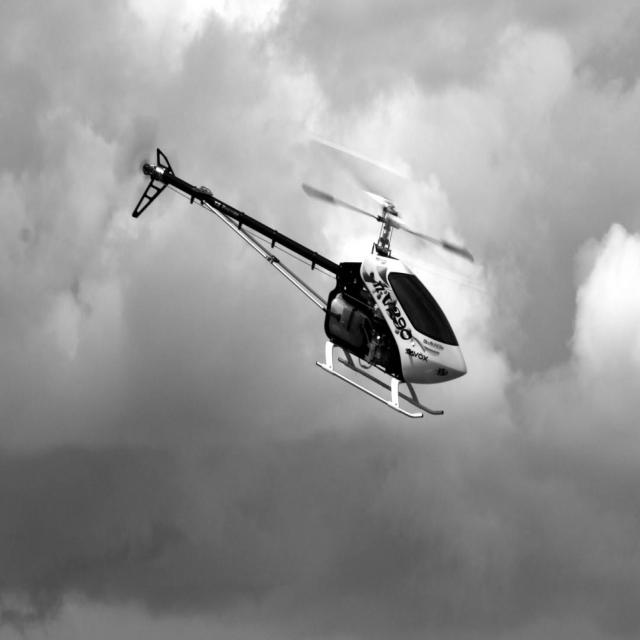helicopter: (130, 147, 476, 418)
